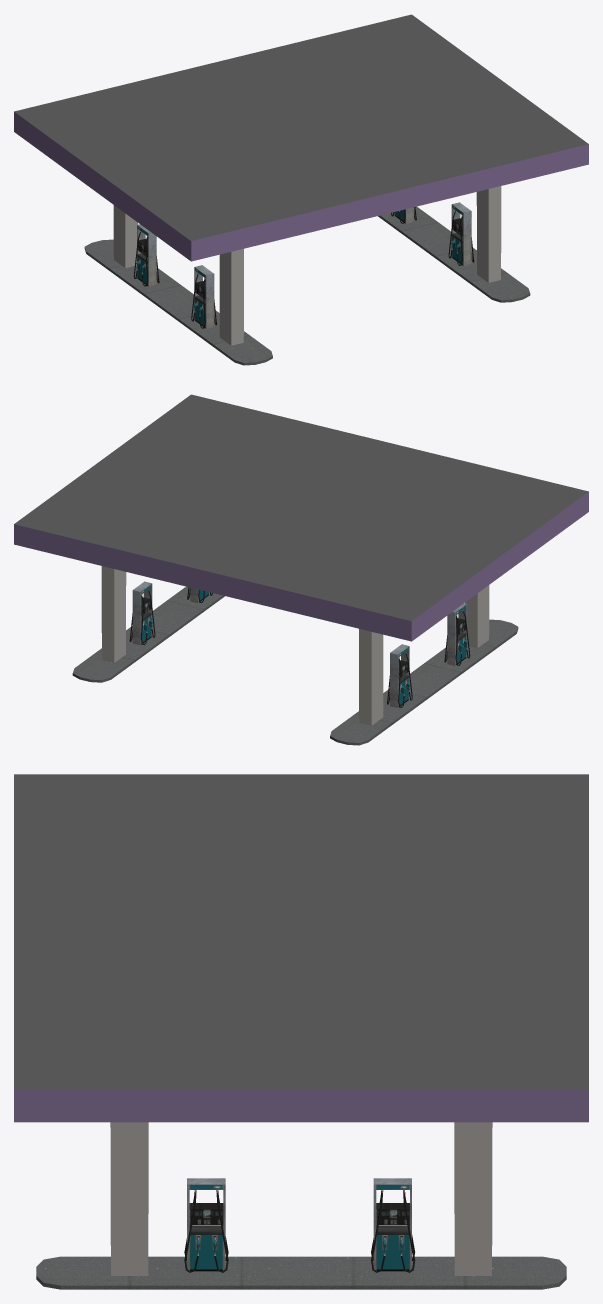
Rendered from gas-forecourt.lod0.glb.
3 views of the same model, one above another, from view 1: azimuth 30°, elevation 25°; view 2: azimuth 150°, elevation 25°; view 3: azimuth 270°, elevation 25° (orthographic). The views are drawn at different scales.
Parts seen in each view (by area): view 1: Pillar_Concrete_0, Sidewalk_Asphalt_0, Fuel_pump_01_Fuel_pump_0; view 2: Pillar_Concrete_0, Sidewalk_Asphalt_0, Fuel_pump_01_Fuel_pump_0; view 3: Pillar_Concrete_0, Sidewalk_Asphalt_0, Fuel_pump_01_Fuel_pump_0.
Boxes of the visible parts, x1,y1,x2,y2 form: Pillar_Concrete_0: (14,14,588,345); Sidewalk_Asphalt_0: (84,206,530,365); Fuel_pump_01_Fuel_pump_0: (133,202,474,328); Pillar_Concrete_0: (14,394,588,725); Sidewalk_Asphalt_0: (72,586,518,745); Fuel_pump_01_Fuel_pump_0: (129,581,470,707); Pillar_Concrete_0: (14,774,588,1275); Sidewalk_Asphalt_0: (36,1256,566,1289); Fuel_pump_01_Fuel_pump_0: (184,1178,415,1272).
Bounding box in the file's own units: 21.67 × 7.6 × 16.73.
Materials: 3 (2 with a texture image).
